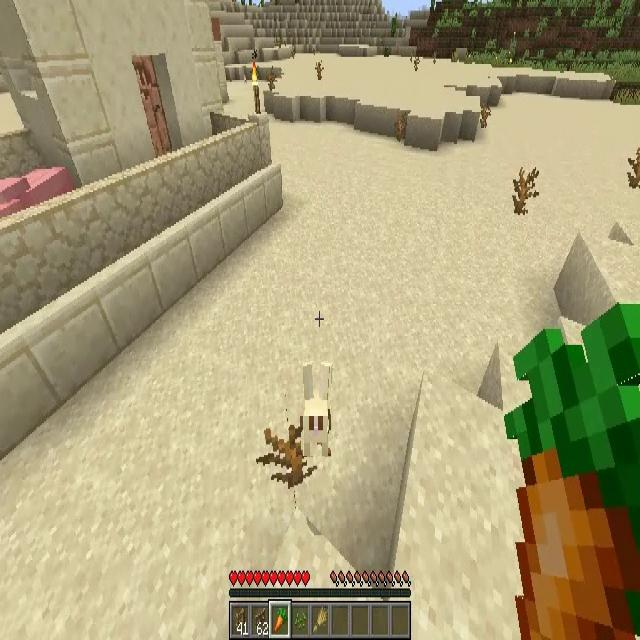rabbit: (304, 362, 332, 457)
